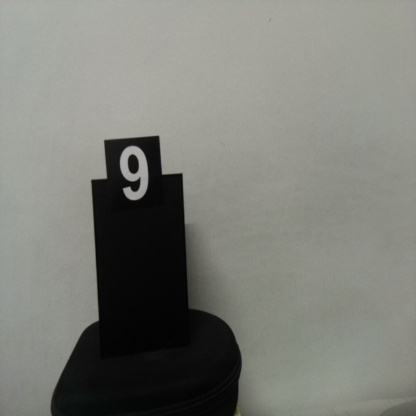id_9: (104, 141, 162, 221)
